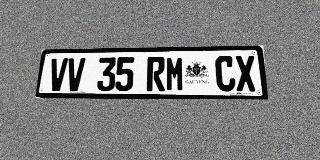3: (97, 57, 116, 91)
5: (115, 57, 134, 91)
C: (215, 56, 236, 91)
M: (166, 56, 184, 91)
R: (146, 57, 165, 91)
V: (48, 58, 68, 91), (65, 58, 85, 91)
X: (235, 55, 257, 91)
